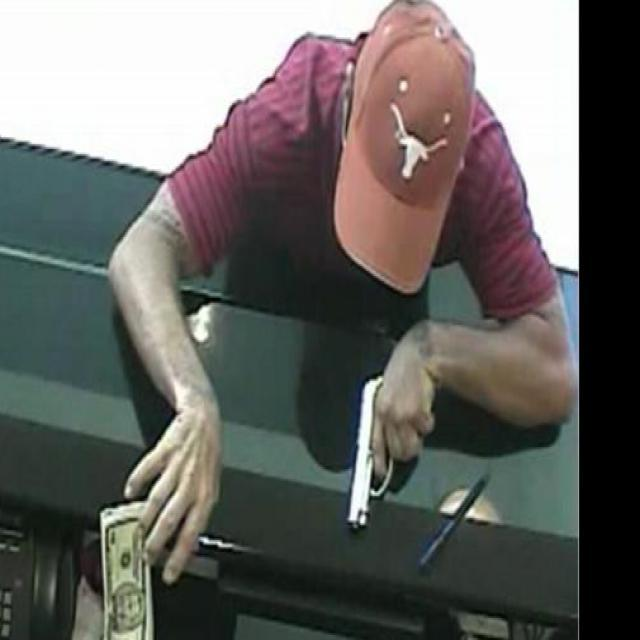Gun: (348, 371, 438, 530)
